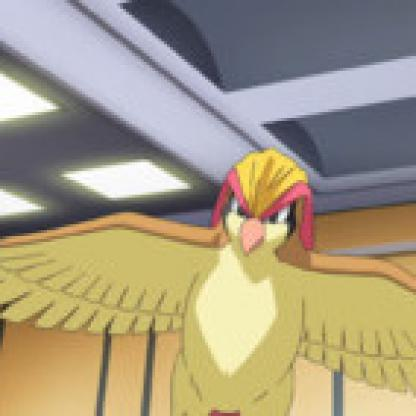Pidgeot: (1, 140, 414, 414)
